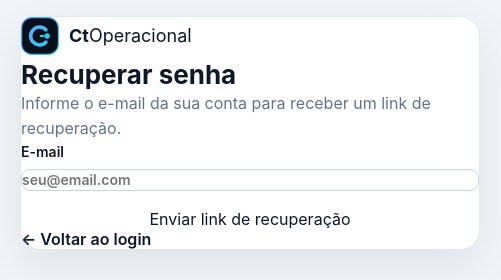
Test: recuperação de senha › solicita o link e exibe resposta genérica
The width and height of the screenshot is (501, 280).
Type "ana@teste.com" into the field labelled "E-mail". click: (250, 180)
box: x1=21 y1=169 x2=479 y2=191
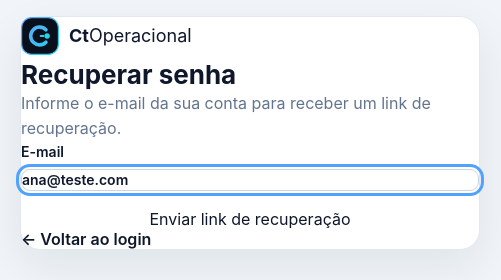
Click the button "Enviar link de recuperação". click: click(250, 219)
box: x1=21 y1=209 x2=479 y2=229
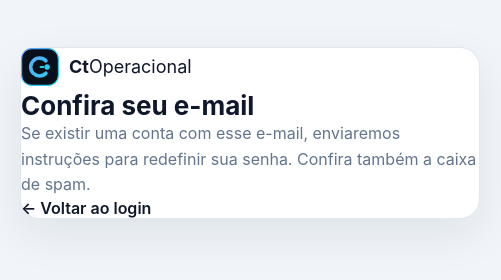
Now the message shows "Se existir uma conta", box x1=21 y1=123 x2=476 y2=194
